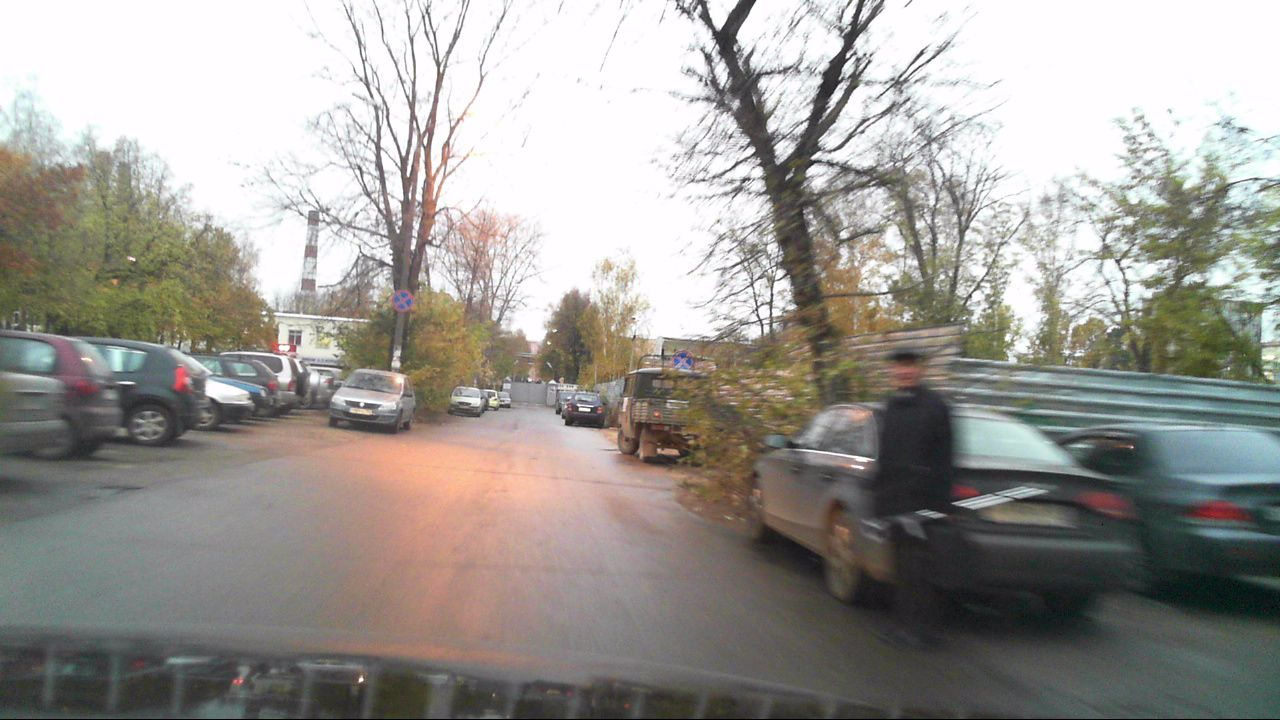No Parking: (391, 288, 414, 312)
